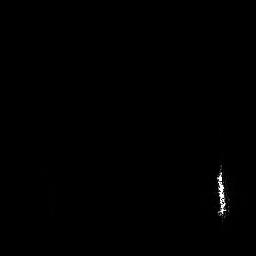ship: (216, 163, 227, 217)
